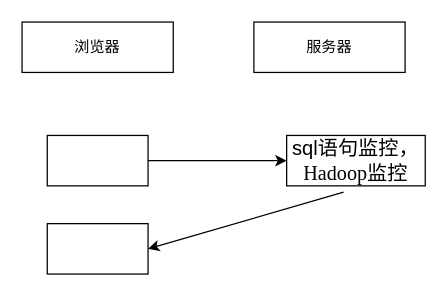
Image size: 447x296. Some labels were removed from this diagram. The centre of each missing label's shape, as x and y in pixels:
显示可视化的页面: the point at 97,248
管理员操作监控界面: the point at 97,160
